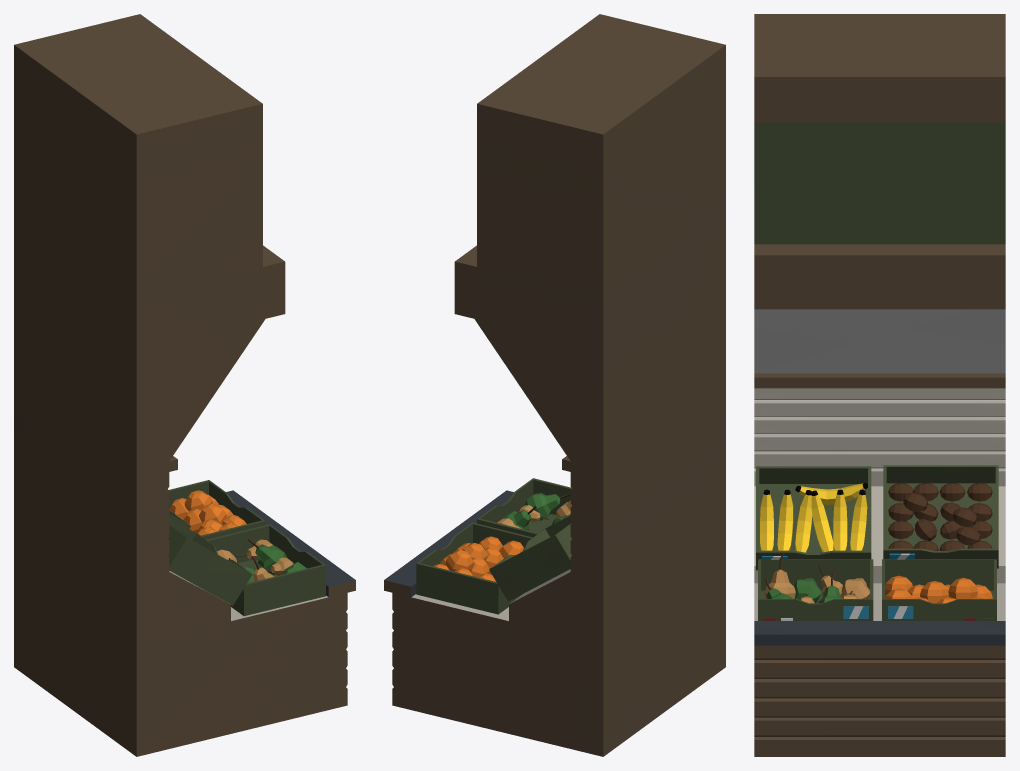
Rendered from SM_fruitShelve_01.glb.
3 renders of one model, left to right at view 1: azimuth 30°, elevation 25°; view 2: azimuth 150°, elevation 25°; view 3: azimuth 270°, elevation 25°, orthographic. The views are drawn at different scales.
Visible parts, largest first — view 1: SM_fruitShelve_01; view 2: SM_fruitShelve_01; view 3: SM_fruitShelve_01.
Boxes of the visible parts, x1=… form: SM_fruitShelve_01: x1=14, y1=14, x2=355, y2=756; SM_fruitShelve_01: x1=384, y1=14, x2=725, y2=756; SM_fruitShelve_01: x1=754, y1=14, x2=1005, y2=756.
Bounding box in the file's own units: 1.03 × 2.8 × 1.
Materials: 2 (1 with a texture image).
